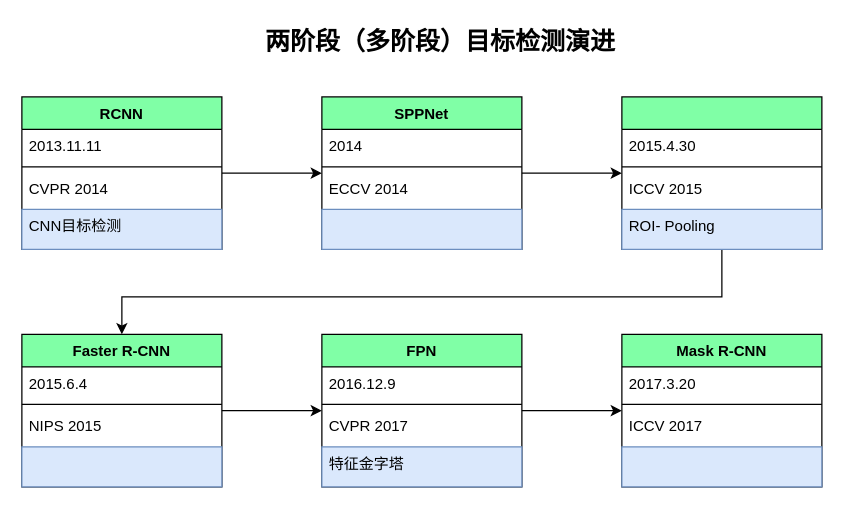
This 844x511 diagram has some shape labels left out. The shapes that lost their labels are listed below. From the top down, each one's box as (x1, y1, x2, y2) in pixels, then its label:
(621, 96, 822, 249): Fast R-CNN
(321, 208, 522, 249): 空间金字塔池化
(21, 446, 222, 487): RPN Anchor
(621, 446, 822, 487): 实例分割
